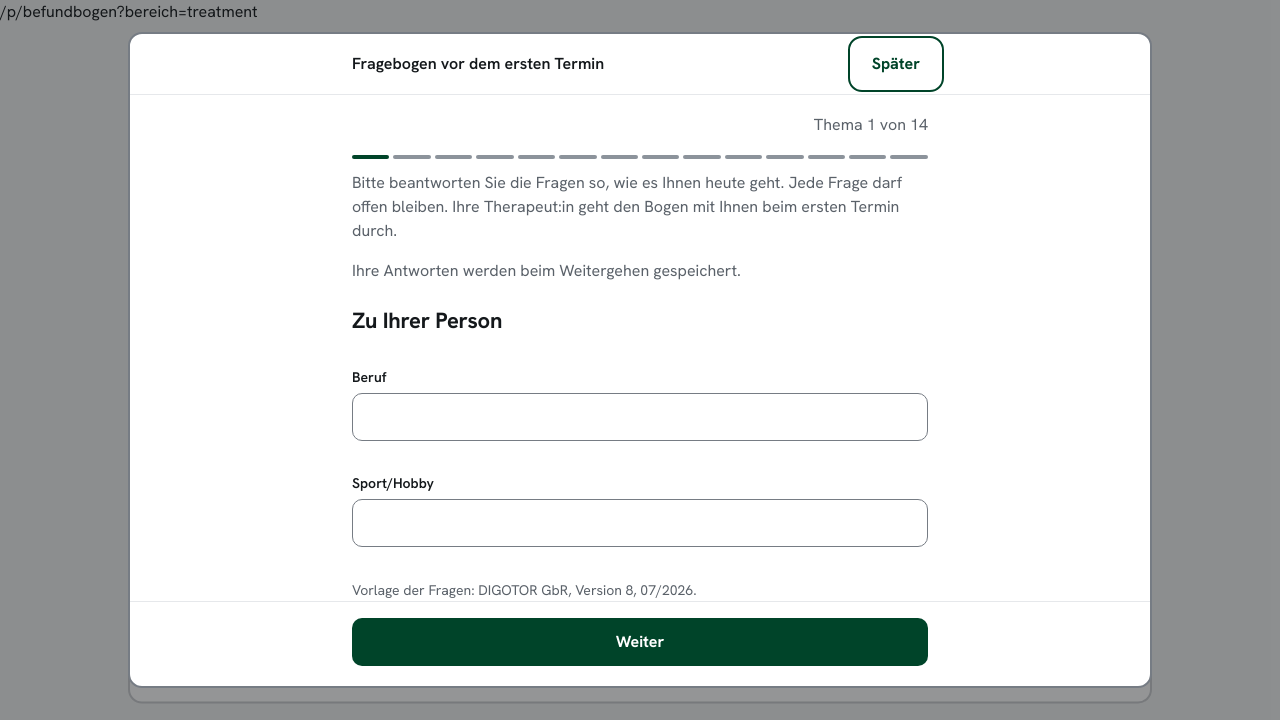
Test: Fragebogen vor dem ersten Termin › „Später“ fragt, wenn das Speichern scheitert
Type "Lehrerin" into the field labelled "Beruf".
click(640, 416); type("Lehrerin")  # box [352,392,928,440]
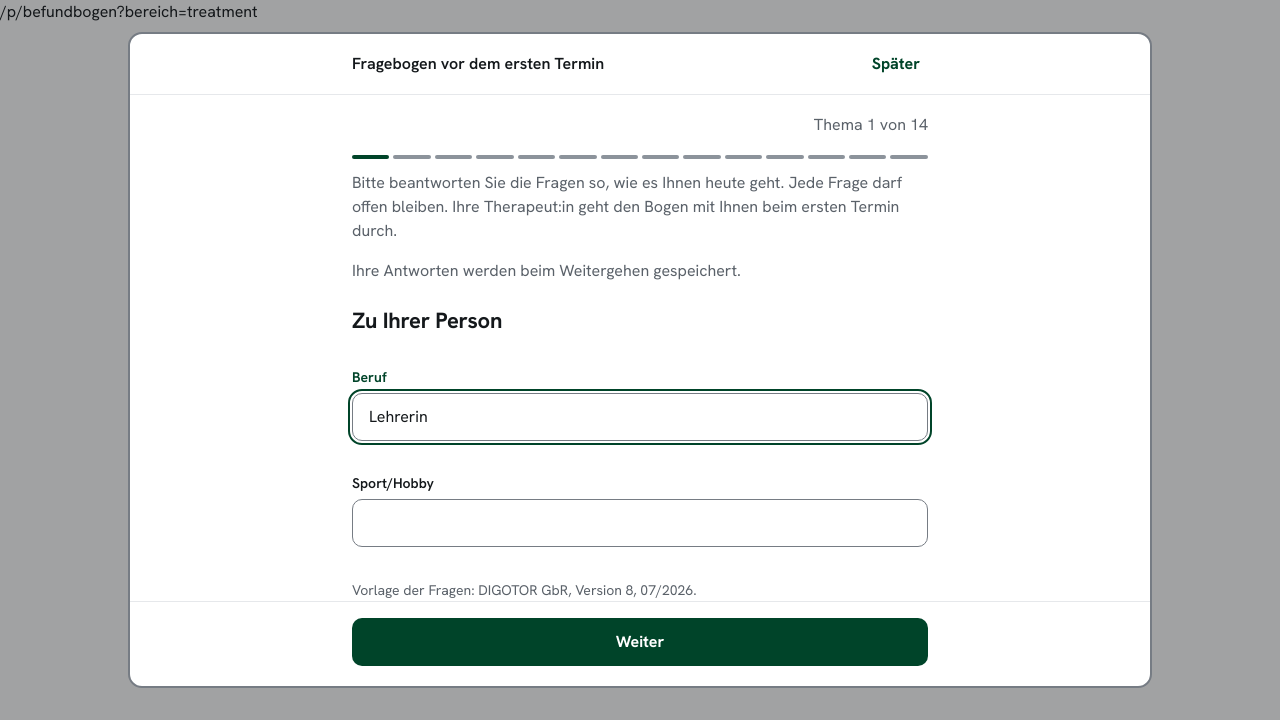
Click the button "Später".
click(896, 64)  # box [852,40,940,88]
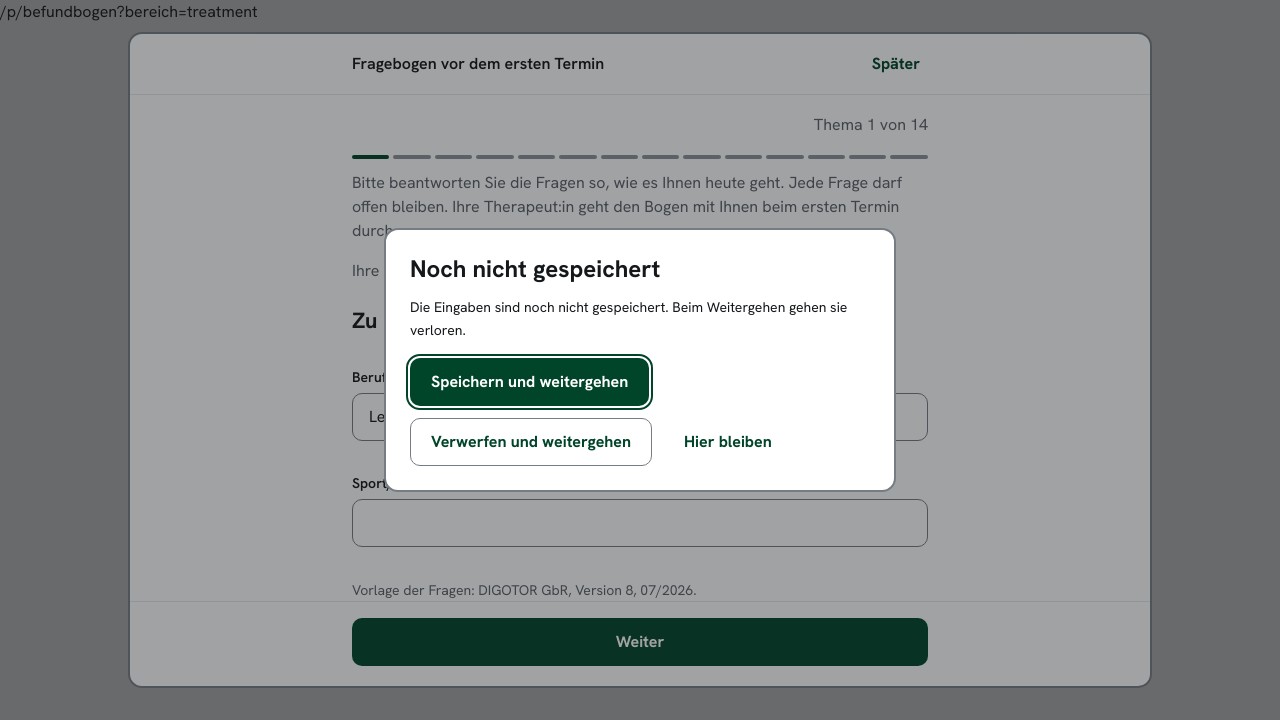
Check: the text with test id "ort" reads "/p/befundbogen?bereich=treatment", box [0,1,258,22]
Check: the text "Die Eingaben sind noch nicht gespeichert. Beim Weitergehen gehen sie verloren." is shown, box [410,296,870,342]
